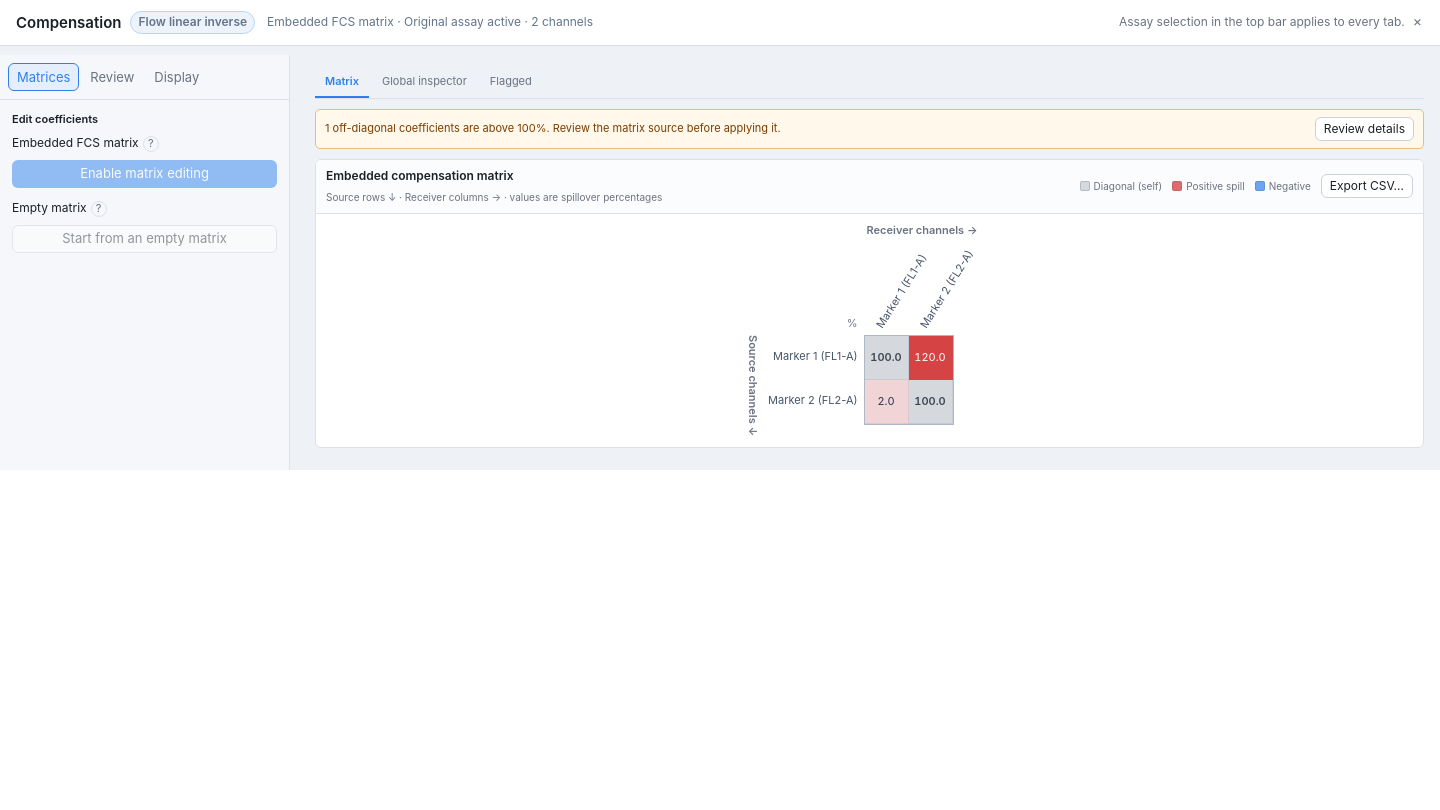
Test: CompensationTab common path › offers explicit warning details without auto-opening the review queue
Expected: the message shows "above 100%", [325,121,781,135]
Click the button "Review details". click: (1364, 129)
box: [1315,117,1414,141]
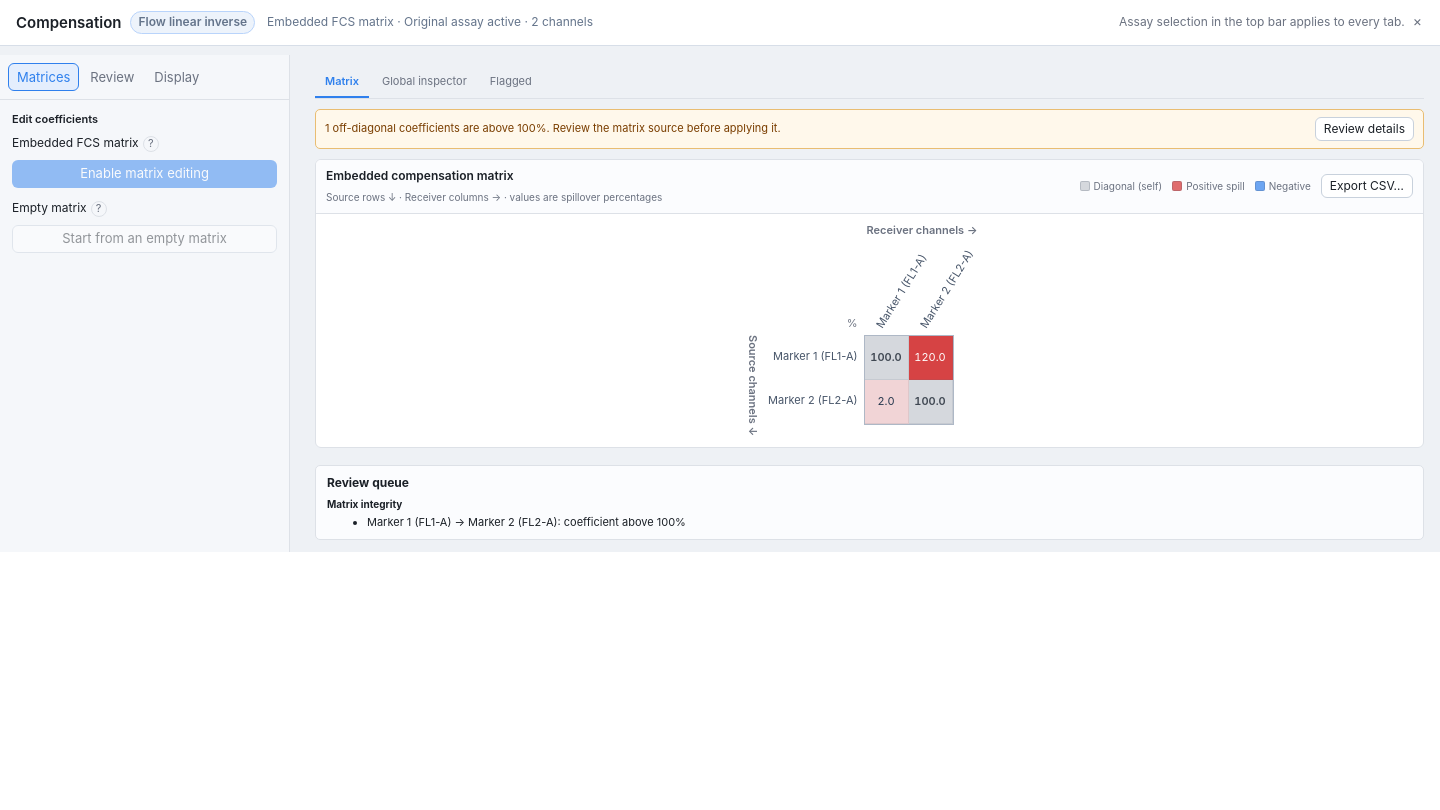
Now the element that starts with "Review queue" shows "coefficient above 100%", box [367,515,686,529]
